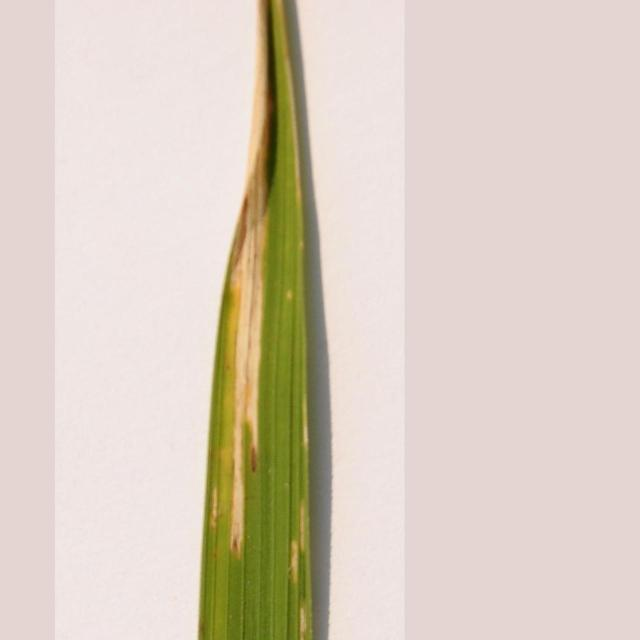Bacterial leaf blight: (224, 4, 274, 560), (282, 535, 302, 590), (294, 501, 314, 549), (299, 399, 312, 452), (210, 482, 222, 534), (294, 601, 310, 640), (284, 285, 295, 315), (297, 235, 307, 261), (250, 448, 258, 474)
